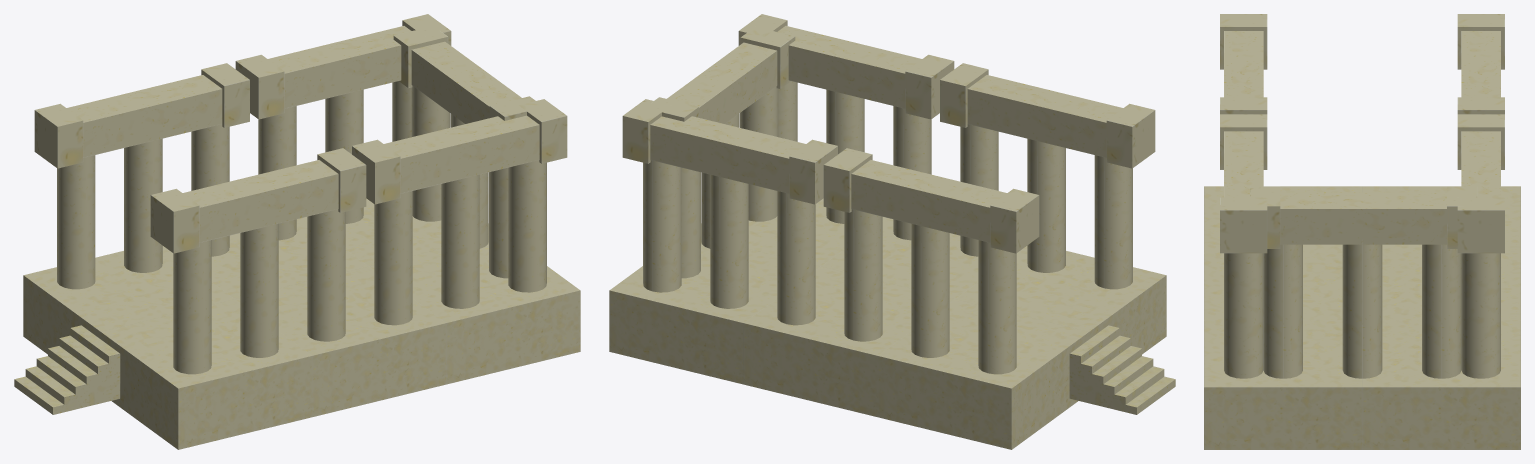
3 views of the same model, side by side, from view 1: azimuth 30°, elevation 25°; view 2: azimuth 150°, elevation 25°; view 3: azimuth 270°, elevation 25° (orthographic). The views are drawn at different scales.
Visible parts, largest first — view 1: Floor4x4x1_5BlocShape (×6), Pillar1x4_5RndShape (×15), Pillar1x4_5SqShape (×5), TrimCapFullShape (×10), StairsFlt2x2x1_5BlocShape; view 2: Floor4x4x1_5BlocShape (×6), Pillar1x4_5RndShape (×15), Pillar1x4_5SqShape (×5), TrimCapFullShape (×10), StairsFlt2x2x1_5BlocShape; view 3: Floor4x4x1_5BlocShape (×6), Pillar1x4_5RndShape (×5), Pillar1x4_5SqShape (×5), TrimCapFullShape (×10).
Part boxes in pixels (box(x1,y1,x2,y2)): Floor4x4x1_5BlocShape (×6): box(23, 198, 580, 449); Pillar1x4_5RndShape (×15): box(57, 81, 546, 374); Pillar1x4_5SqShape (×5): box(66, 26, 539, 242); TrimCapFullShape (×10): box(34, 14, 567, 253); StairsFlt2x2x1_5BlocShape: box(14, 325, 120, 414); Floor4x4x1_5BlocShape (×6): box(609, 198, 1166, 449); Pillar1x4_5RndShape (×15): box(643, 81, 1132, 374); Pillar1x4_5SqShape (×5): box(650, 26, 1123, 242); TrimCapFullShape (×10): box(622, 14, 1155, 253); StairsFlt2x2x1_5BlocShape: box(1069, 325, 1175, 414); Floor4x4x1_5BlocShape (×6): box(1204, 186, 1520, 449); Pillar1x4_5RndShape (×5): box(1224, 240, 1500, 378); Pillar1x4_5SqShape (×5): box(1224, 31, 1500, 244); TrimCapFullShape (×10): box(1220, 14, 1504, 253).
Size of the model in its own units: 14 by 6.6 by 8.
Materials: 37 (37 with a texture image).
